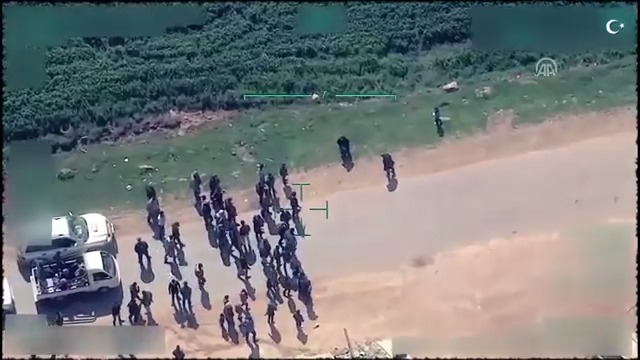arac: (9, 202, 124, 266), (29, 245, 123, 311)
insan: (130, 233, 153, 270), (334, 132, 356, 169), (179, 281, 194, 316), (168, 277, 181, 314), (193, 261, 211, 287), (238, 216, 253, 247), (379, 149, 395, 178), (289, 309, 308, 330), (110, 297, 123, 327), (431, 107, 445, 134), (171, 219, 182, 247), (265, 303, 277, 325)
